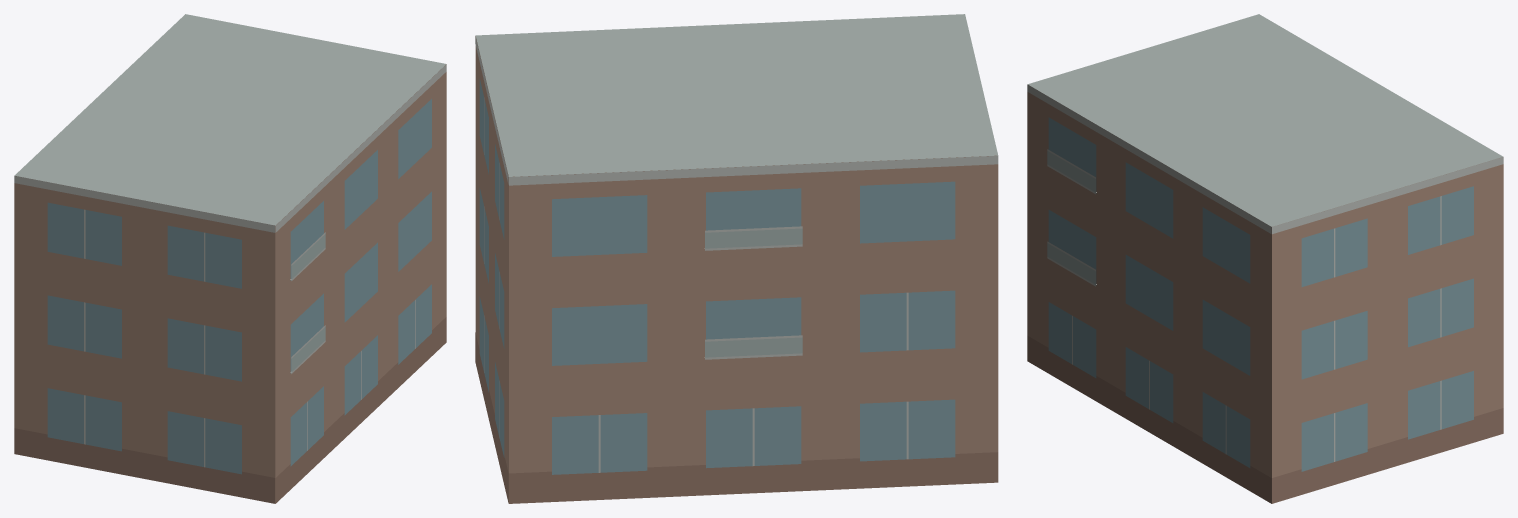
File: survey-upis-32801603.glb
The picture shows the model from 3 angles, left to right: view 1: azimuth 30°, elevation 25°; view 2: azimuth 150°, elevation 25°; view 3: azimuth 270°, elevation 25°; orthographic projection. The views are drawn at different scales.
Parts seen in each view (by area): view 1: survey-upis-32801603.tmp; view 2: survey-upis-32801603.tmp; view 3: survey-upis-32801603.tmp.
Part boxes in pixels (x1,y1,x2,y2): survey-upis-32801603.tmp: (14, 14, 446, 503); survey-upis-32801603.tmp: (475, 14, 998, 503); survey-upis-32801603.tmp: (1027, 14, 1503, 503).
Bounding box in the file's own units: 15.1 × 9.15 × 14.27.
